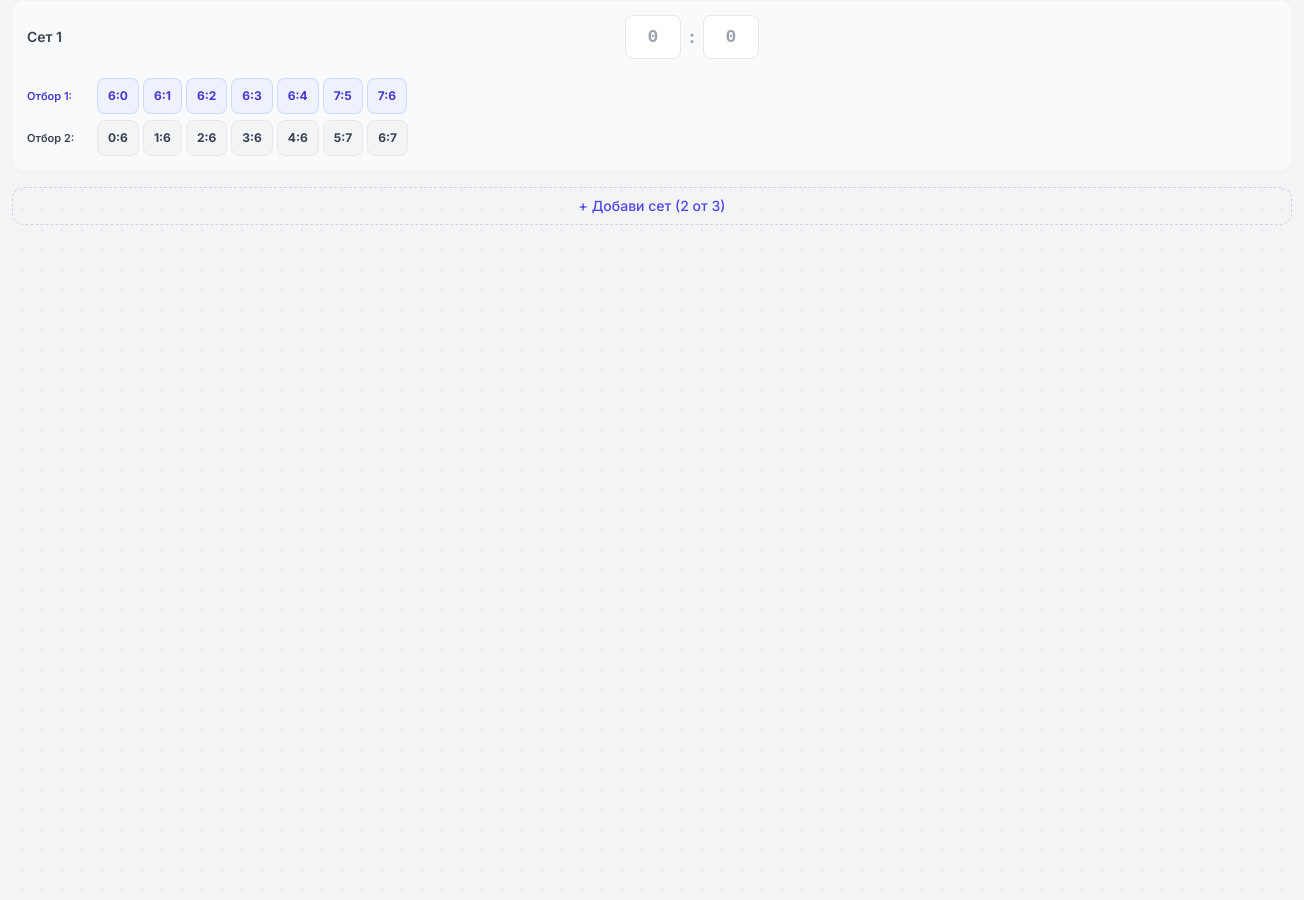
Test: TennisScoreEditor Component › renders Set 2 with remove button and presets when clicking Add Set 2
The image size is (1304, 900).
Click the button "+ Добави сет (2 от 3)" at (652, 206), box x1=12 y1=187 x2=1292 y2=225
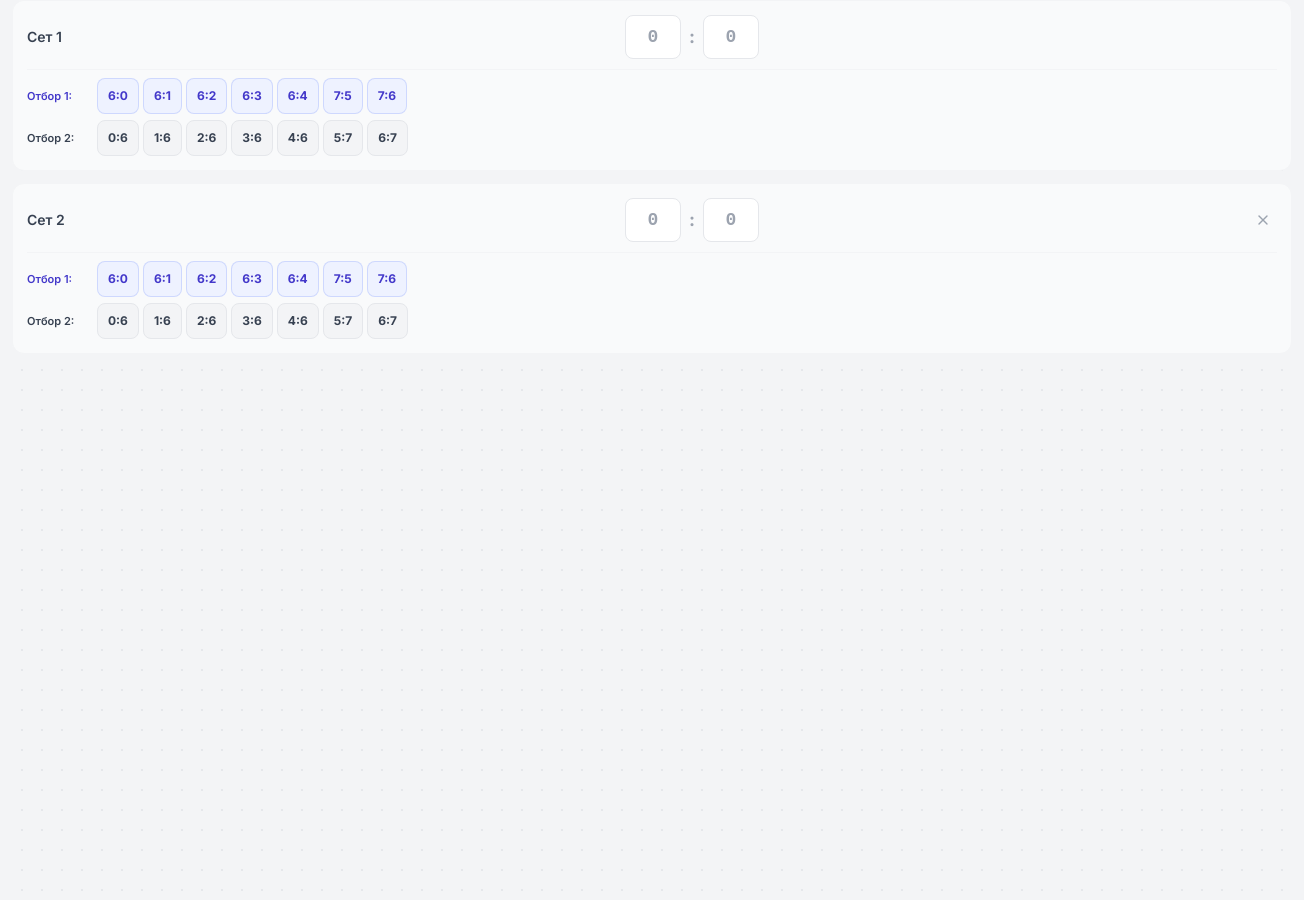
Result: the text "Сет 2" is shown at x1=27 y1=211 x2=65 y2=228
Result: the button named "Премахни Сет 2" is shown at x1=1249 y1=206 x2=1277 y2=234
Result: the field named "Сет 2 Отбор 1" is shown at x1=625 y1=198 x2=681 y2=242
